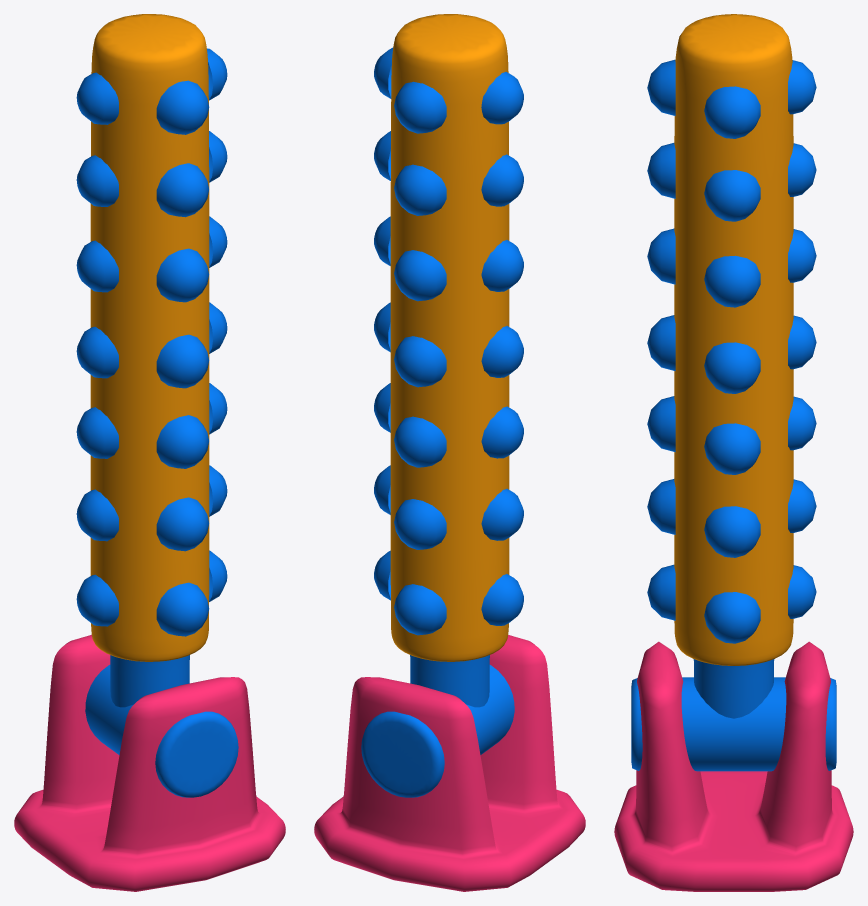
3 renders of one model, left to right at view 1: azimuth 30°, elevation 25°; view 2: azimuth 150°, elevation 25°; view 3: azimuth 270°, elevation 25°, orthographic.
Parts seen in each view (by area): view 1: Kol.012, Merkez.012; view 2: Kol.012, Merkez.012; view 3: Kol.012, Merkez.012.
Boxes of the visible parts, x1,y1,x2,y2 form: Kol.012: (76, 14, 238, 797); Merkez.012: (14, 635, 285, 891); Kol.012: (361, 14, 523, 797); Merkez.012: (314, 635, 585, 891); Kol.012: (631, 14, 836, 771); Merkez.012: (614, 641, 853, 891).
Bounding box in the file's own units: 15.96 × 59.98 × 15.98.
